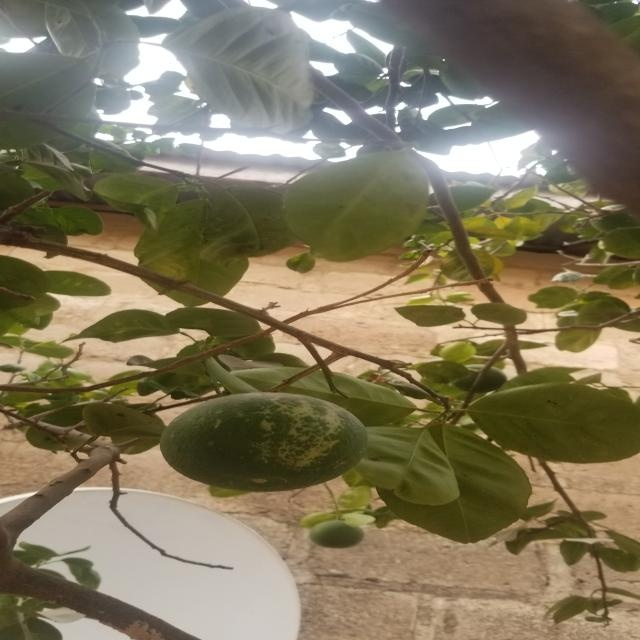agrume: (121, 382, 395, 516)
